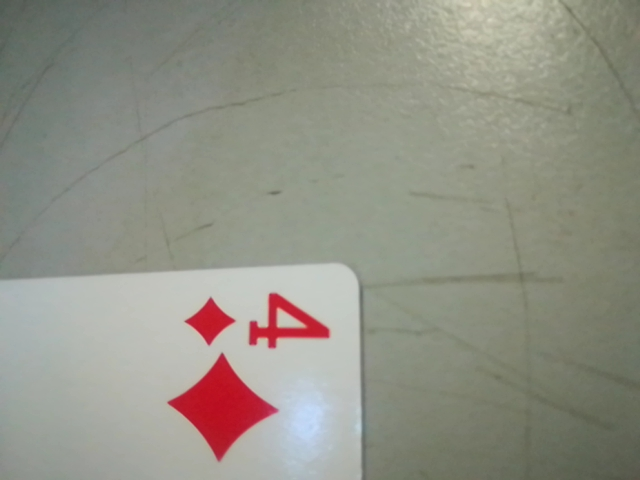fk 4: (184, 289, 334, 354)
